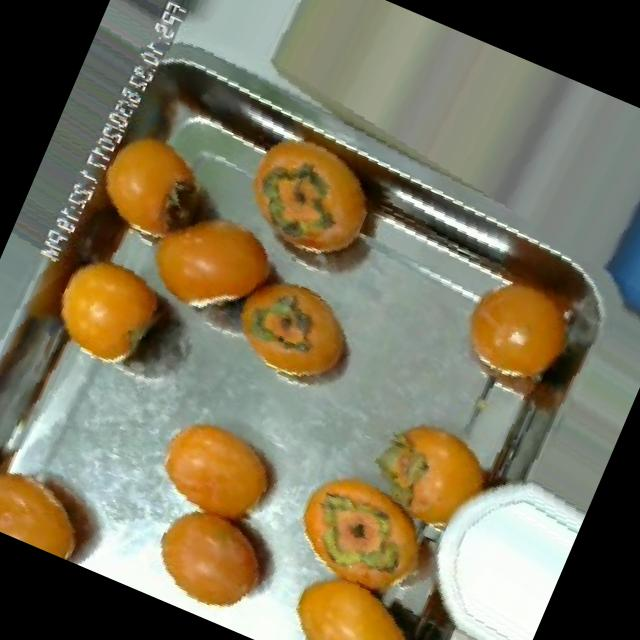Fruit: (428, 218, 634, 420), (204, 111, 406, 299), (116, 175, 304, 348), (124, 474, 308, 640), (204, 250, 387, 411), (76, 109, 250, 274), (348, 392, 518, 558), (130, 392, 308, 550), (25, 228, 192, 393), (263, 546, 457, 640), (0, 433, 121, 570)
